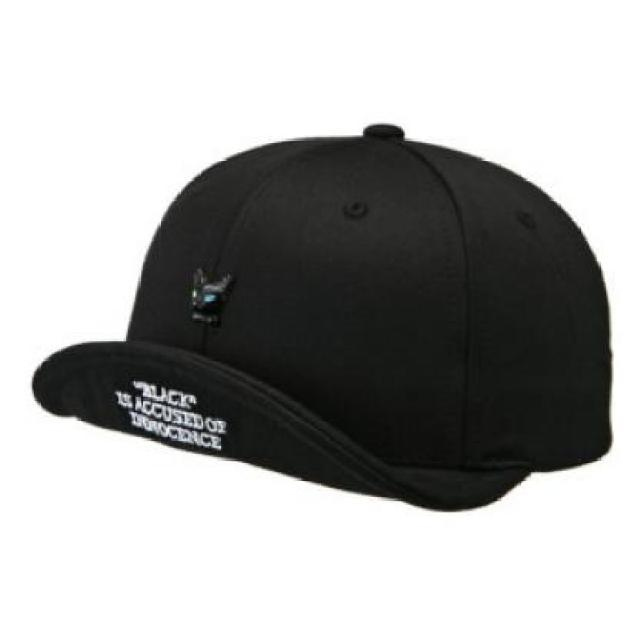hat: (30, 123, 612, 515)
